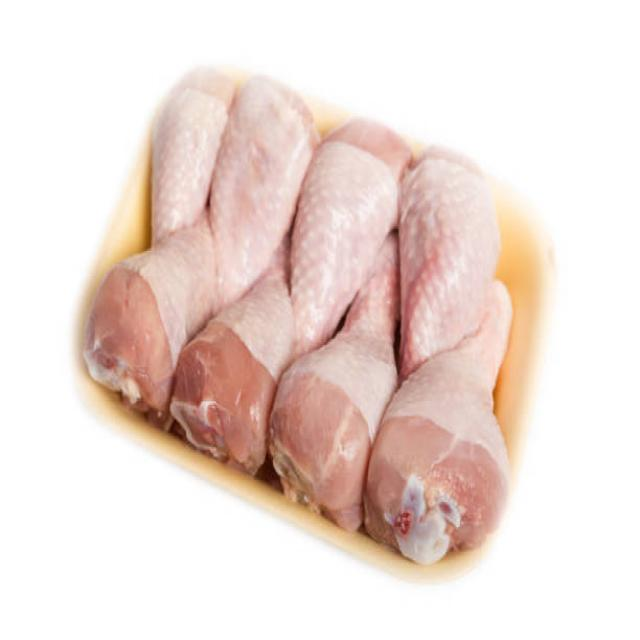Chicken Thigh: (369, 298, 520, 552), (274, 241, 406, 514), (287, 106, 402, 335)
